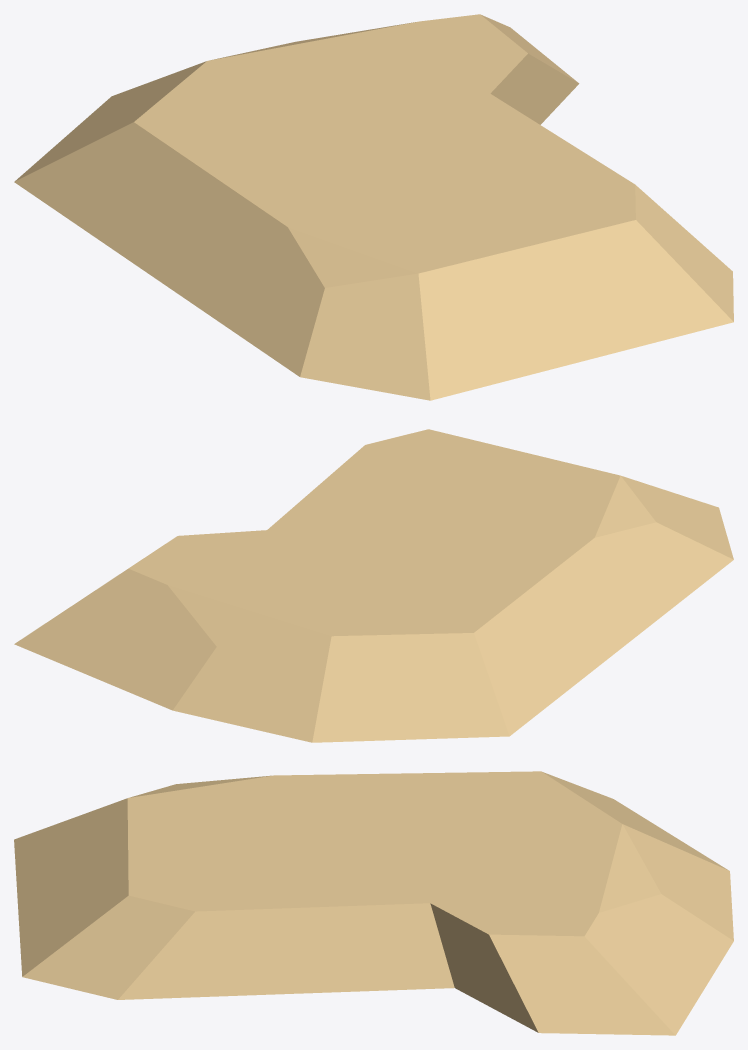
Rendered from Mesh_FloorStone4.glb.
The picture shows the model from 3 angles, top to bottom: view 1: azimuth 30°, elevation 25°; view 2: azimuth 150°, elevation 25°; view 3: azimuth 270°, elevation 25°; orthographic projection. The views are drawn at different scales.
Parts seen in each view (by area): view 1: Cube.043; view 2: Cube.043; view 3: Cube.043.
Part boxes in pixels (x1,y1,x2,y2): Cube.043: (14, 14, 733, 400); Cube.043: (14, 429, 733, 742); Cube.043: (14, 771, 733, 1035).
Size of the model in its own units: 3.16 by 0.4018 by 4.05.
